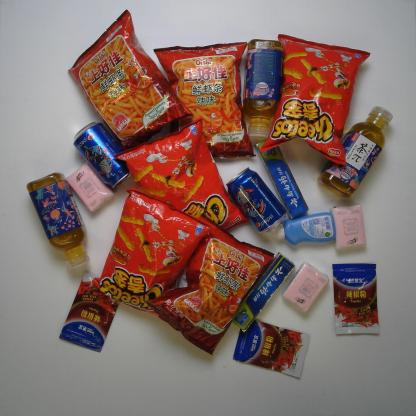Drink: (315, 105, 395, 200), (24, 170, 92, 272), (239, 38, 283, 144), (224, 166, 288, 235), (70, 120, 131, 191)
Personal Hygiene: (232, 251, 296, 333), (253, 138, 310, 222), (273, 211, 337, 248)
Puffed Food: (143, 218, 276, 358), (66, 8, 194, 149), (112, 114, 250, 232), (258, 32, 372, 168), (96, 187, 214, 314), (151, 38, 257, 160)
Seasoner: (58, 271, 119, 354), (231, 321, 313, 381), (329, 262, 382, 337)
Tissue: (64, 160, 116, 214), (280, 260, 331, 314), (330, 202, 370, 250)
